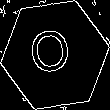O_S: (32, 26, 78, 84)
